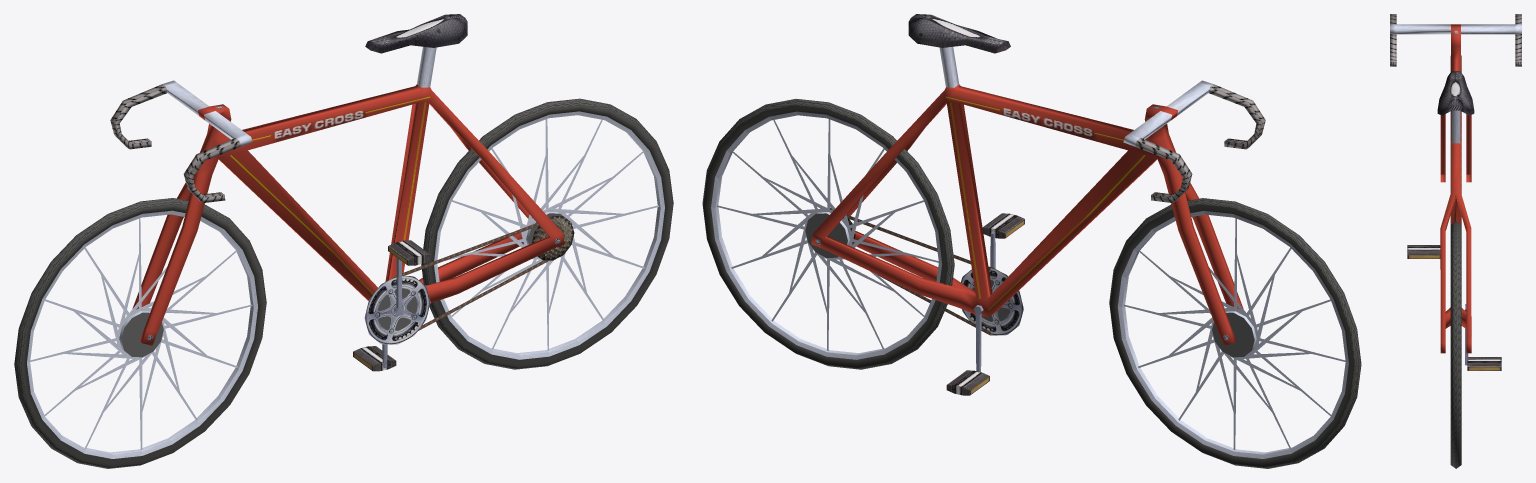
Rendered from UDC_BycicleRed.obj.
3 renders of one model, left to right at view 1: azimuth 30°, elevation 25°; view 2: azimuth 150°, elevation 25°; view 3: azimuth 270°, elevation 25°, orthographic. The views are drawn at different scales.
Visible parts, largest first — view 1: UDC_BycicleRed; view 2: UDC_BycicleRed; view 3: UDC_BycicleRed.
Boxes of the visible parts, <box> form: UDC_BycicleRed: <box>14,14,673,468</box>; UDC_BycicleRed: <box>702,14,1361,468</box>; UDC_BycicleRed: <box>1390,14,1521,468</box>.
Size of the model in its own units: 0.6685 by 0.3616 by 0.1357.
Materials: 1 (1 with a texture image).
